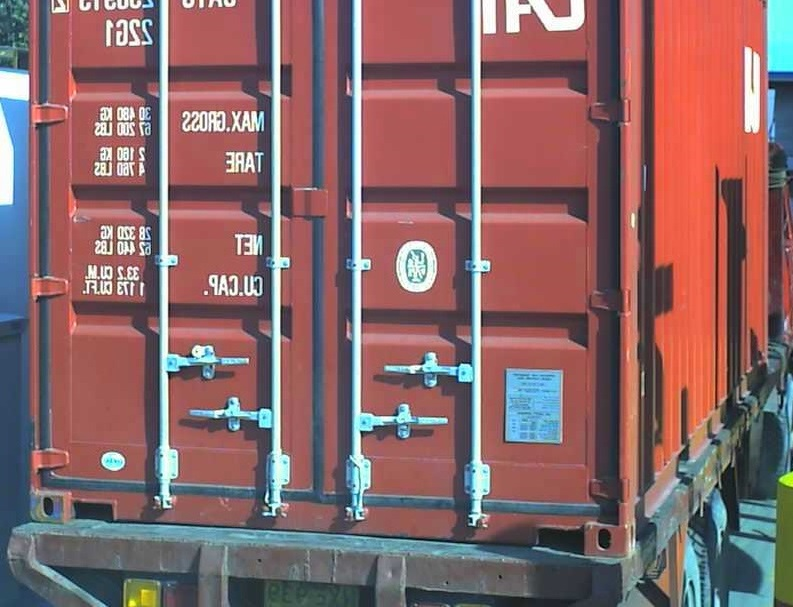container_door: (25, 1, 637, 567)
